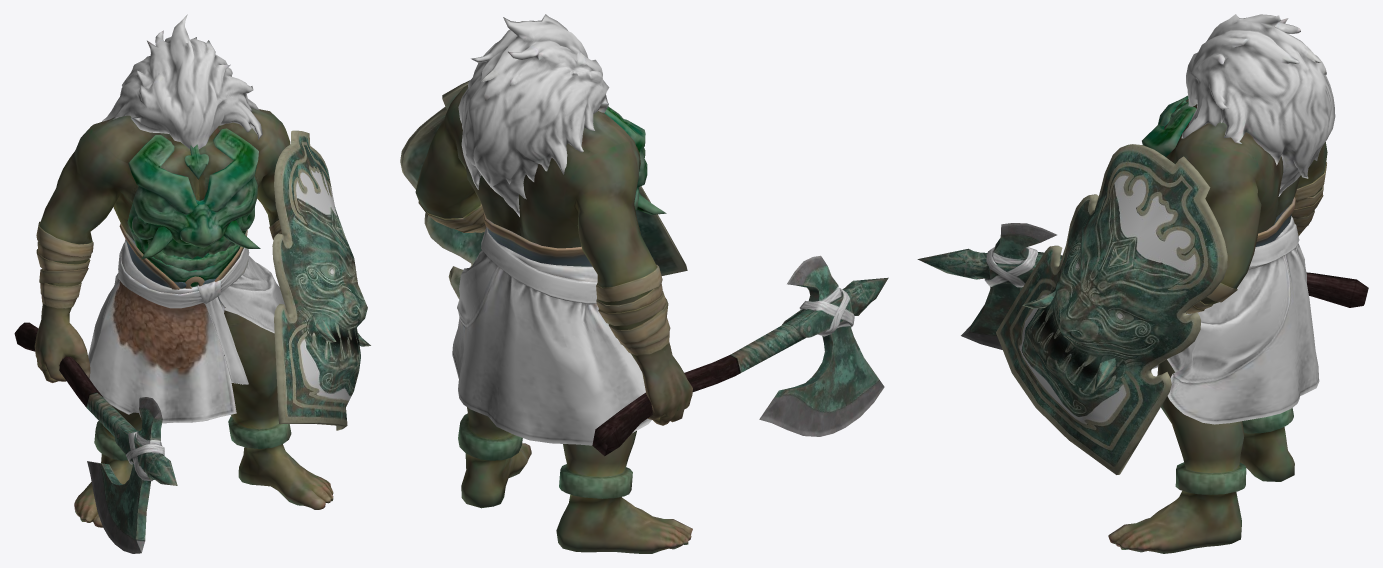
The model's file is 200-titanxingtian.glb.
The picture shows the model from 3 angles, left to right: view 1: azimuth 30°, elevation 25°; view 2: azimuth 150°, elevation 25°; view 3: azimuth 270°, elevation 25°; orthographic projection. The views are drawn at different scales.
Bounding box in the file's own units: 8.65 × 12.34 × 10.02.
3 materials, 3 textured.
